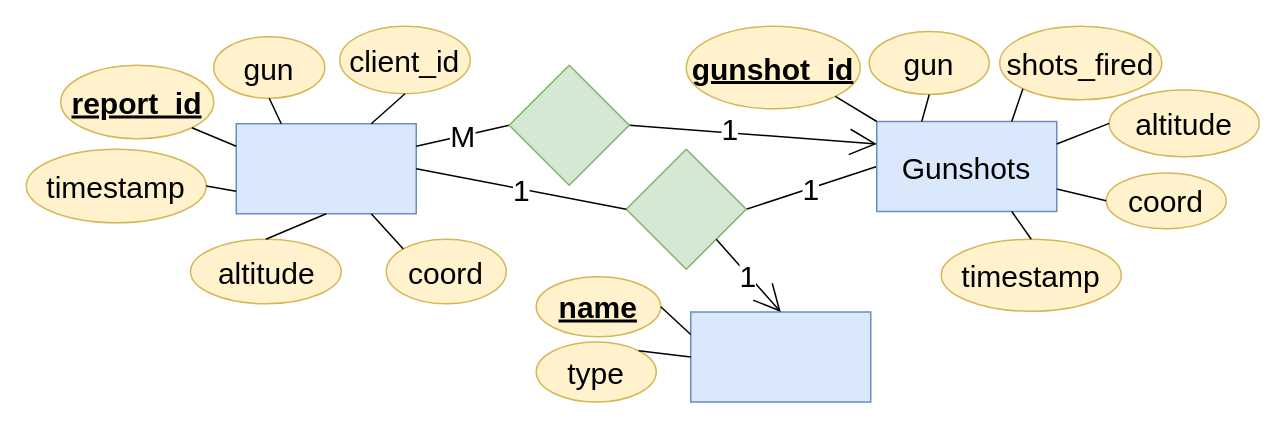
The diagram is 1286 pixels wide and 429 high, and some of its shapes have lost their labels. The shapes that lost their labels are listed below. From the top down, each one's centre as x and y in pixels, then its label:
At (568,124): "creates".
At (325,168): "Reports".
At (685,208): "has".
At (780,356): "Guns".
